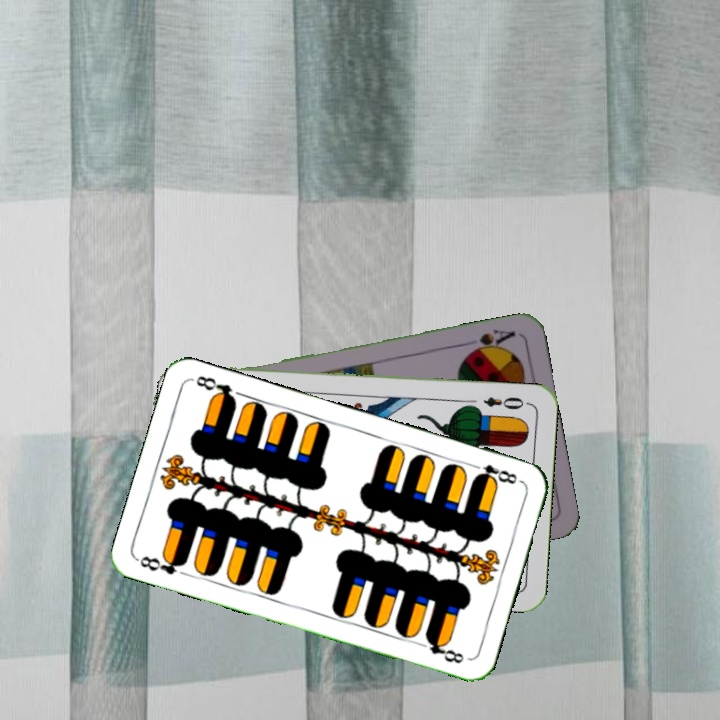E8: (466, 459, 524, 487), (134, 551, 189, 578)
EO: (479, 392, 532, 413)
SA: (462, 325, 518, 357)
